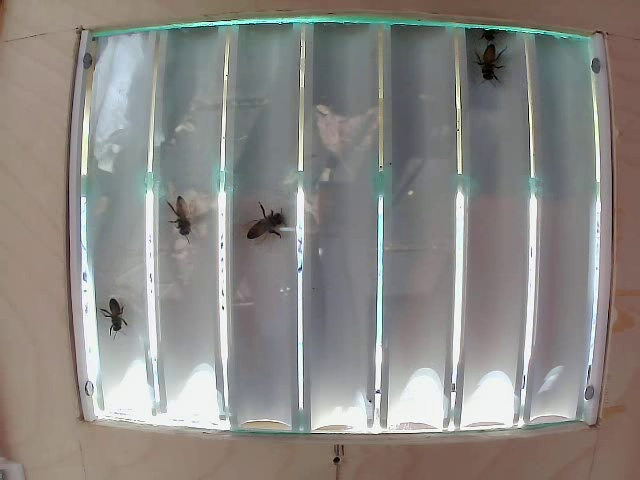bee: (237, 204, 287, 247), (100, 281, 123, 342), (170, 184, 191, 244), (479, 42, 508, 83)
